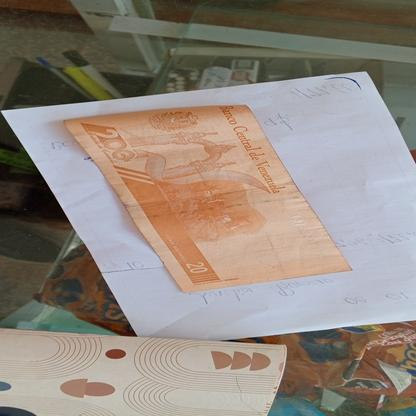twenty-back-vef: (62, 104, 353, 293)
